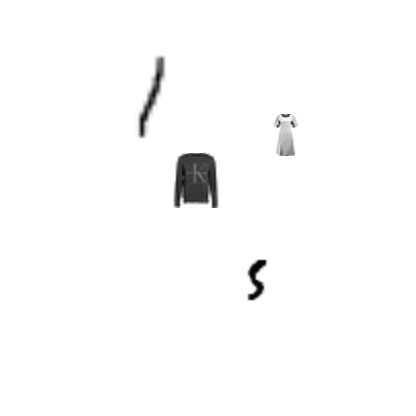4: (331, 346, 359, 374)
7: (294, 42, 336, 84)
8: (336, 148, 350, 162)
9: (233, 238, 345, 350), (88, 260, 116, 288)
Shirt: (201, 224, 229, 252)
T-shirt/top: (12, 250, 34, 272)
